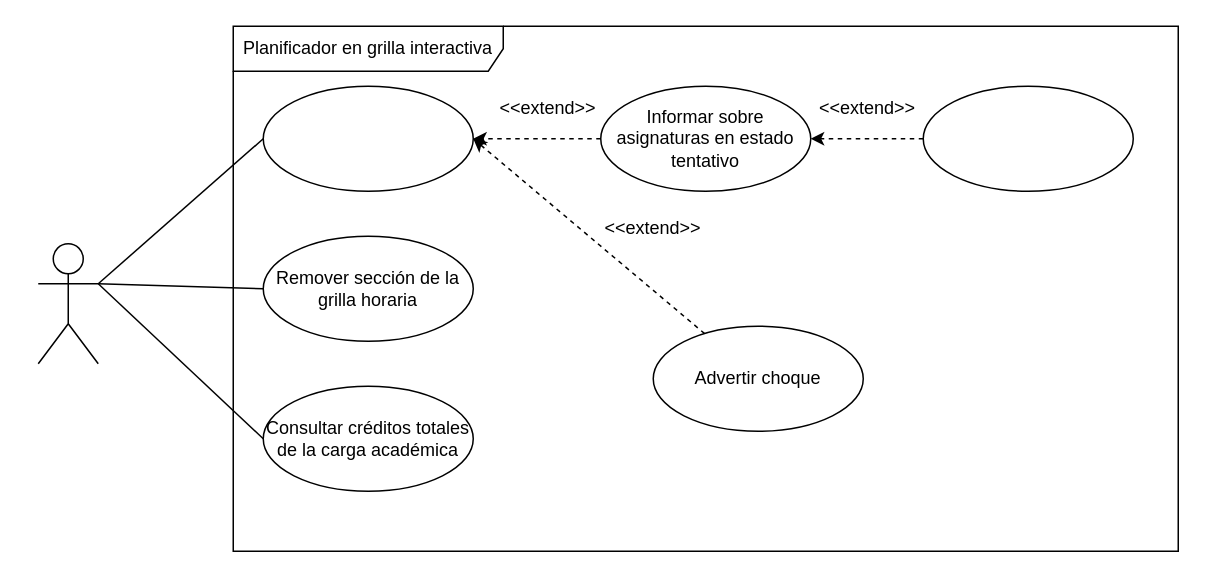
The diagram is 1205 pixels wide and 578 high, and some of its shapes have lost their labels. Here are the shapes that lost their labels. From the top down, the centre of each, then its label:
point 367,138: Agregar sección a la grilla horaria
point 1027,138: Advertir exceso del tope crediticio
point 67,303: Estudiante
